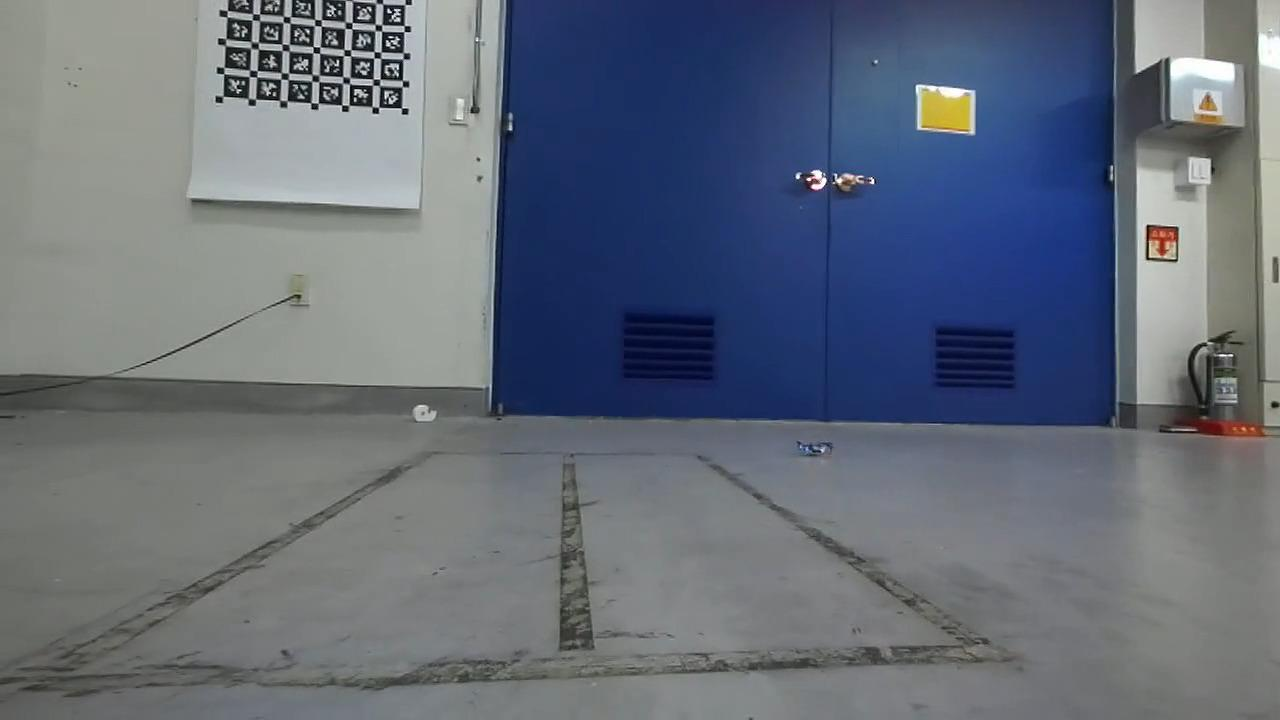crazyflie: (788, 434, 842, 460)
